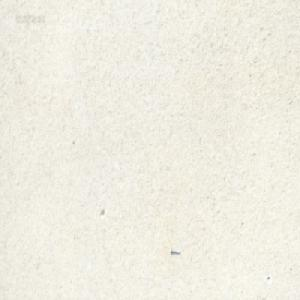Nail: (169, 246, 180, 254)
